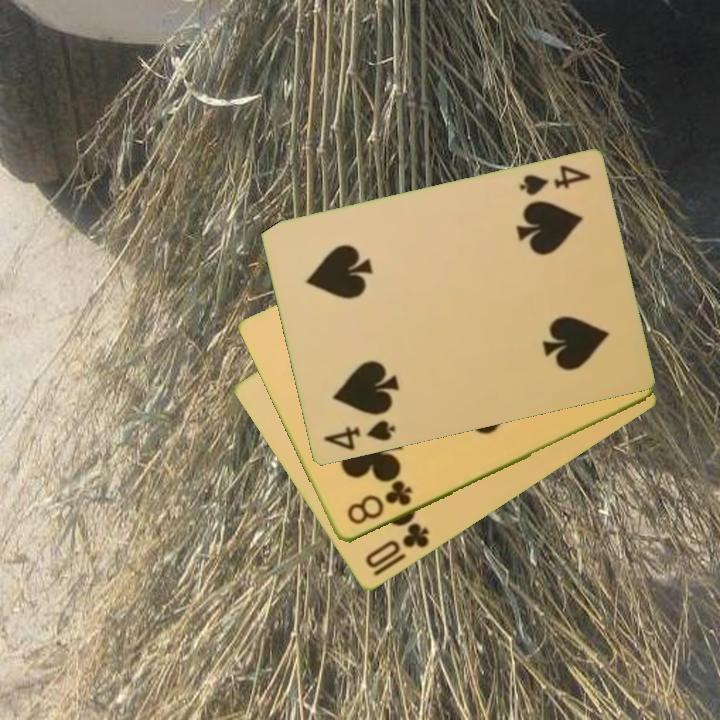10c: (362, 519, 433, 572)
4s: (320, 417, 398, 454), (515, 162, 593, 199)
8c: (343, 477, 415, 528)
